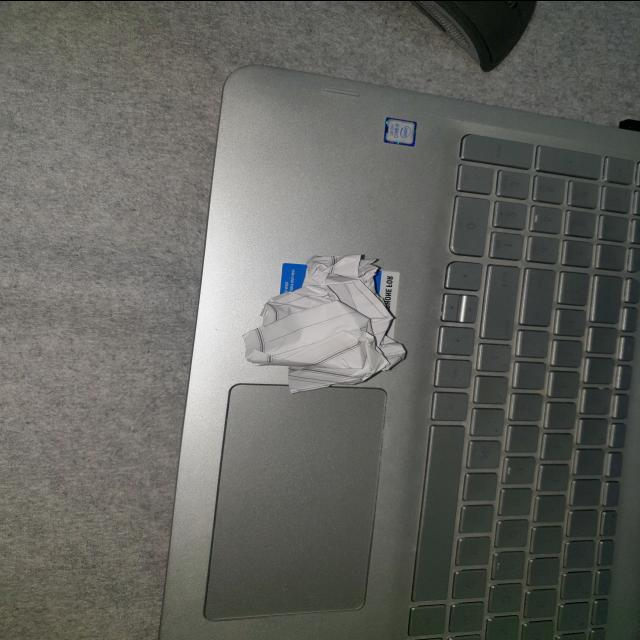Paper: (234, 244, 410, 390)
